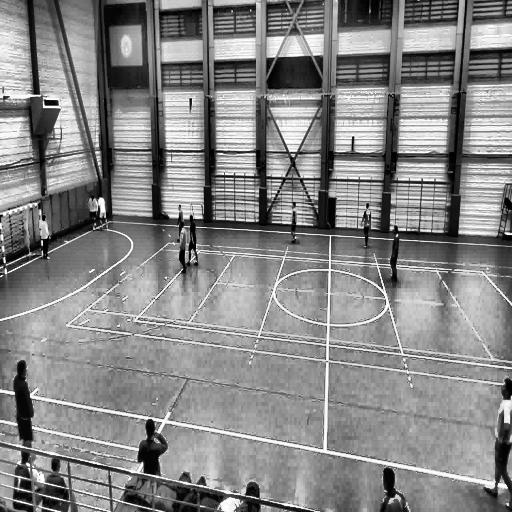ball: (94, 220, 98, 231)
player: (483, 378, 511, 504), (13, 362, 33, 451), (187, 213, 199, 265), (390, 223, 399, 282), (40, 215, 51, 260), (361, 204, 371, 247), (97, 194, 107, 232), (290, 202, 298, 245), (89, 195, 98, 230), (177, 204, 184, 243)
